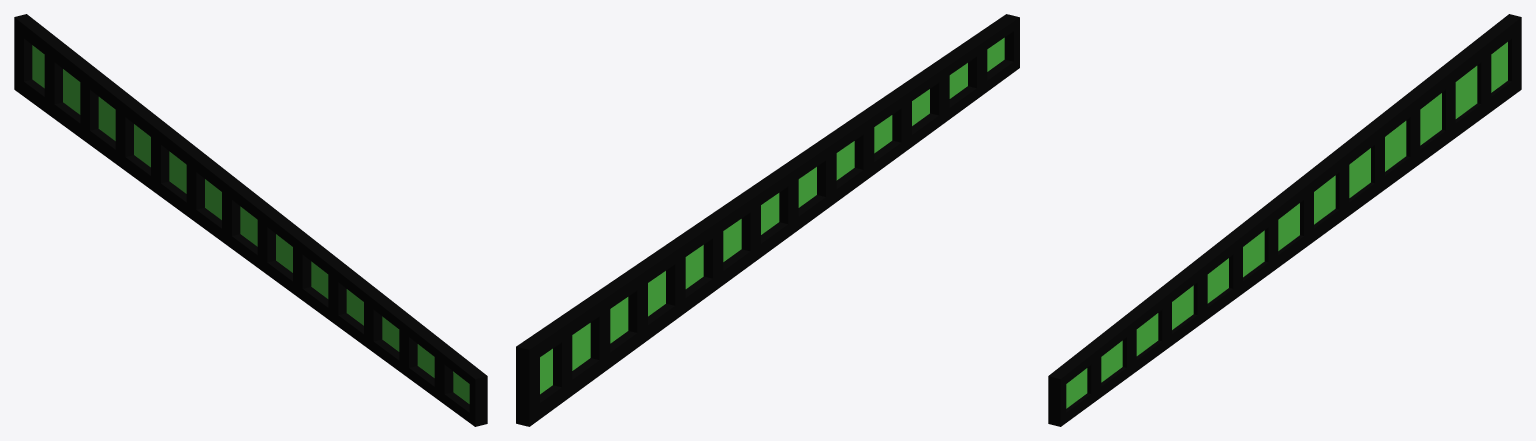
The model's file is indicator_line.fbx.
3 renders of one model, left to right at view 1: azimuth 30°, elevation 25°; view 2: azimuth 150°, elevation 25°; view 3: azimuth 330°, elevation 25°, orthographic. The views are drawn at different scales.
Parts seen in each view (by area): view 1: osnova, Osnova_light; view 2: osnova, Osnova_light; view 3: osnova, Osnova_light.
Boxes of the visible parts, x1,y1,x2,y2 form: osnova: (14, 14, 487, 426); Osnova_light: (32, 45, 469, 403); osnova: (516, 14, 1019, 426); Osnova_light: (540, 37, 1004, 394); osnova: (1048, 14, 1521, 426); Osnova_light: (1066, 42, 1507, 408).
Size of the model in its own units: 2.67 by 168 by 14.6.
